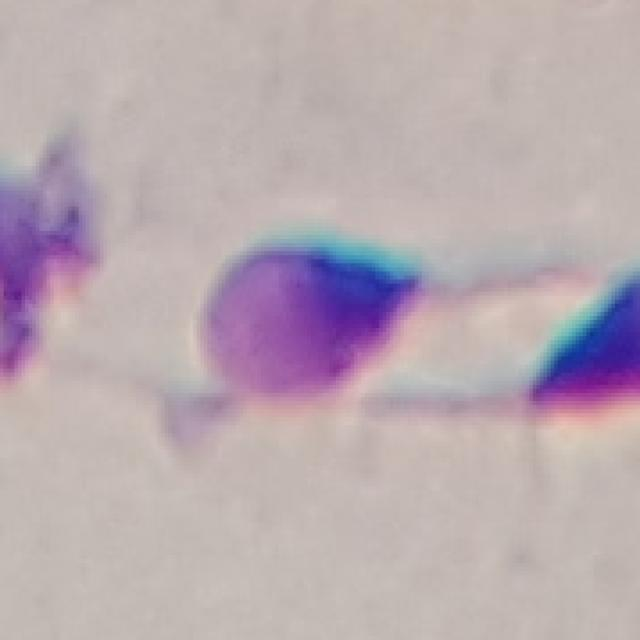normal sperm: (197, 245, 513, 404)
